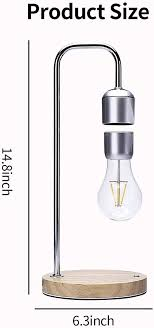bulb: (82, 128, 154, 234)
